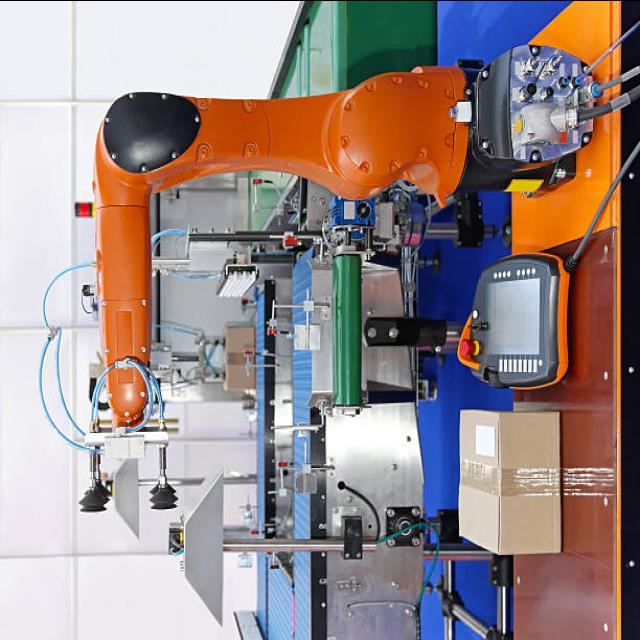Robotic-arm: (75, 60, 490, 428)
